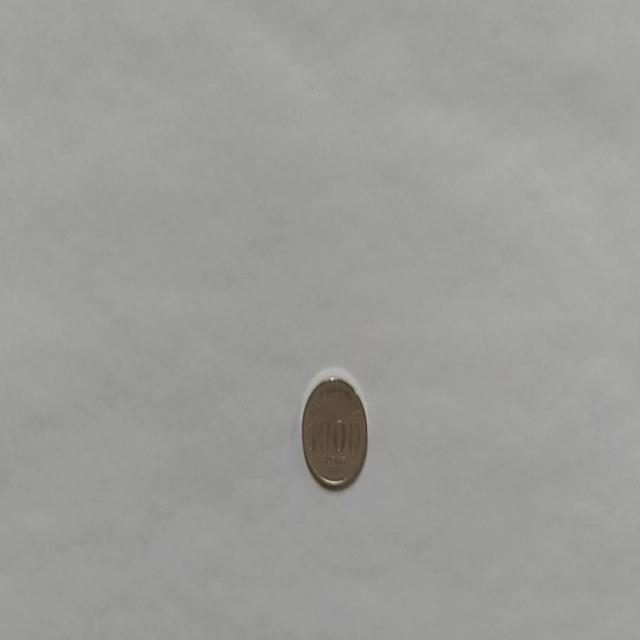seribu rupiah koin: (300, 368, 368, 491)
